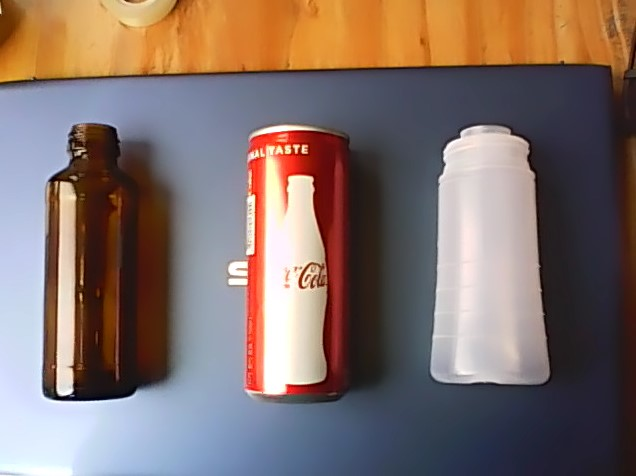Can: (239, 118, 356, 408)
Glass: (35, 113, 142, 405)
Plastic: (422, 116, 555, 390)
